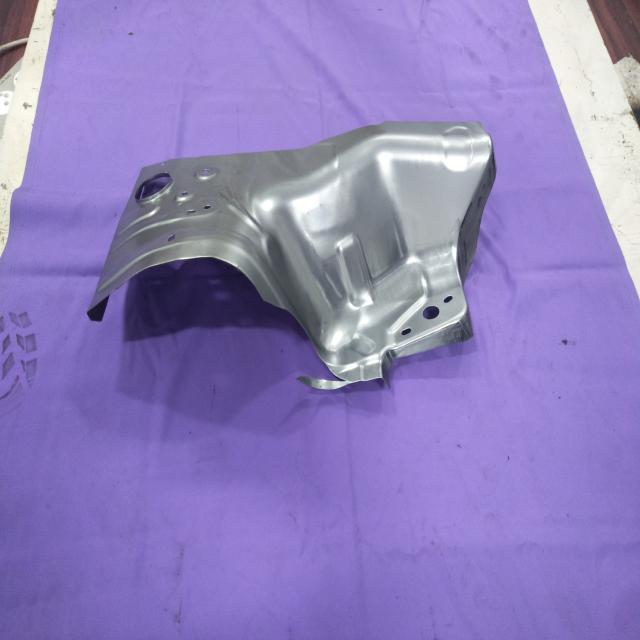Defect: (272, 321, 348, 396)
